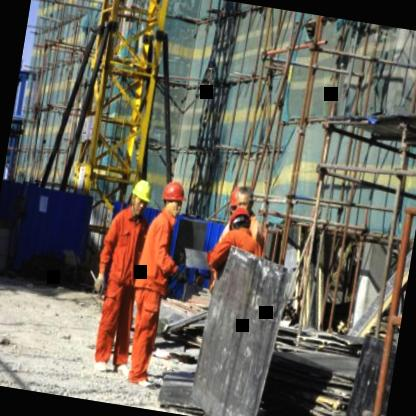helmet: (158, 178, 186, 218), (128, 176, 154, 217), (226, 206, 254, 234), (224, 185, 245, 213)
